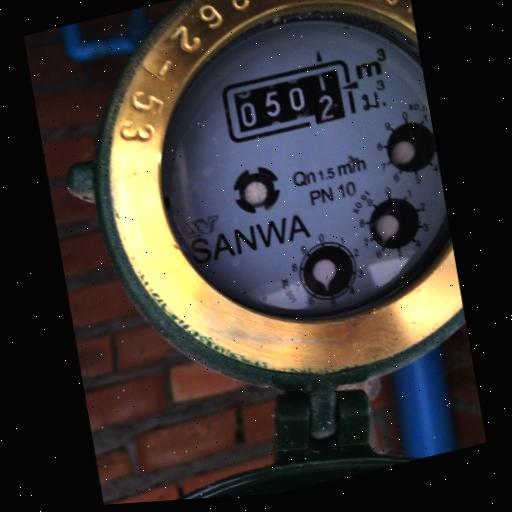0: (279, 74, 314, 122), (232, 86, 265, 133)
1: (305, 66, 345, 125)
5: (256, 80, 288, 128)
border_water_meter_number: (217, 53, 357, 148)
